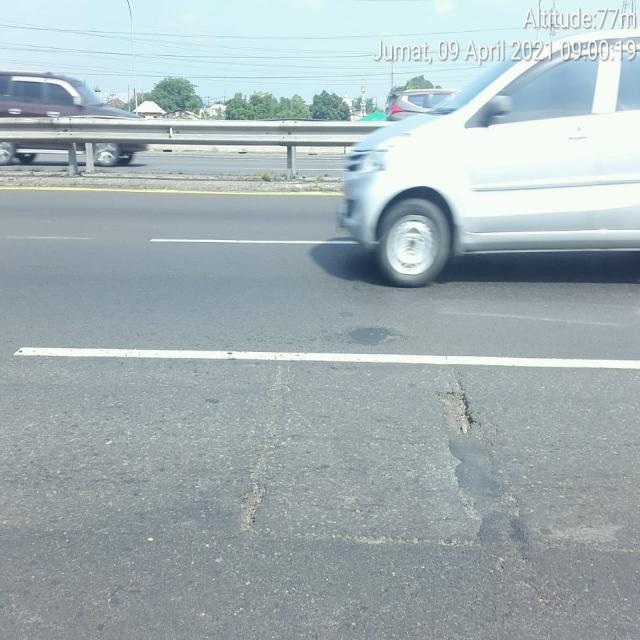Buraco: (432, 378, 478, 438)
